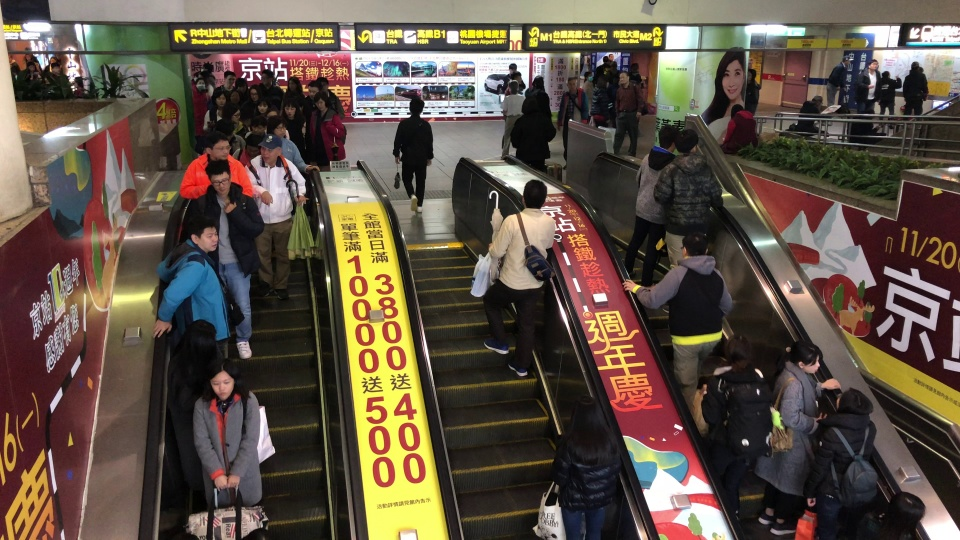person_head: (882, 490, 925, 534), (179, 318, 218, 366), (206, 357, 241, 401), (569, 394, 606, 433), (834, 387, 874, 419), (186, 216, 219, 254), (787, 340, 822, 374), (204, 158, 232, 195), (723, 334, 753, 365), (520, 179, 548, 210), (204, 130, 230, 162), (680, 230, 709, 257), (257, 133, 282, 163), (673, 128, 699, 154), (657, 124, 678, 153), (214, 117, 235, 142), (266, 115, 288, 138), (244, 134, 263, 158), (519, 95, 540, 116), (220, 102, 241, 123), (211, 85, 229, 108), (312, 90, 330, 111), (250, 115, 268, 135), (306, 79, 323, 100), (281, 98, 298, 118), (408, 98, 425, 116), (254, 96, 270, 115), (285, 75, 301, 92), (260, 68, 274, 86), (247, 84, 261, 101), (565, 76, 579, 92), (531, 74, 545, 90), (506, 79, 520, 95), (315, 76, 329, 92), (223, 70, 236, 87), (730, 103, 743, 119), (234, 77, 247, 92), (596, 75, 609, 89), (194, 77, 207, 91), (862, 107, 875, 120), (228, 89, 241, 102), (867, 58, 879, 71), (618, 71, 630, 84), (510, 70, 522, 83), (200, 61, 213, 73), (811, 94, 822, 107), (582, 70, 593, 83), (841, 55, 853, 66), (25, 60, 36, 72), (746, 68, 756, 81), (508, 62, 518, 75), (73, 75, 83, 88), (629, 62, 640, 73), (909, 61, 920, 71), (880, 69, 891, 79), (50, 62, 60, 73), (609, 61, 619, 70), (49, 56, 57, 65), (601, 55, 609, 63), (7, 53, 13, 63), (25, 54, 32, 60), (608, 54, 613, 61)
person_vbox: (621, 231, 733, 410), (751, 339, 840, 537), (183, 158, 265, 359), (482, 179, 557, 378), (699, 334, 773, 522), (652, 128, 724, 314), (166, 318, 228, 513), (190, 357, 263, 513), (803, 387, 877, 540), (152, 215, 231, 358), (244, 133, 310, 300), (550, 393, 622, 540), (623, 123, 678, 292), (178, 130, 254, 201), (392, 97, 434, 214), (853, 490, 926, 540), (510, 95, 551, 173), (267, 115, 320, 175), (556, 75, 588, 171), (308, 90, 346, 164), (613, 71, 644, 157), (302, 80, 332, 157), (499, 79, 525, 162), (719, 103, 758, 155), (901, 61, 929, 125), (500, 70, 522, 150), (845, 107, 886, 148), (795, 94, 832, 138), (853, 58, 881, 114), (875, 69, 901, 129), (280, 99, 306, 158), (825, 54, 853, 108), (314, 76, 345, 121), (214, 117, 246, 157), (190, 77, 211, 136), (590, 74, 613, 127), (628, 62, 644, 137), (202, 85, 228, 131), (259, 67, 285, 111), (280, 74, 307, 116), (524, 75, 550, 116), (232, 134, 263, 168), (220, 102, 248, 138), (241, 83, 267, 117), (605, 61, 618, 128), (742, 68, 760, 116), (500, 62, 526, 94), (580, 70, 594, 125), (593, 54, 612, 86), (244, 115, 268, 140), (234, 77, 248, 116), (200, 61, 215, 91), (217, 70, 237, 92), (21, 53, 41, 73), (7, 53, 21, 78), (72, 75, 86, 97), (43, 55, 57, 75), (580, 52, 592, 73)
